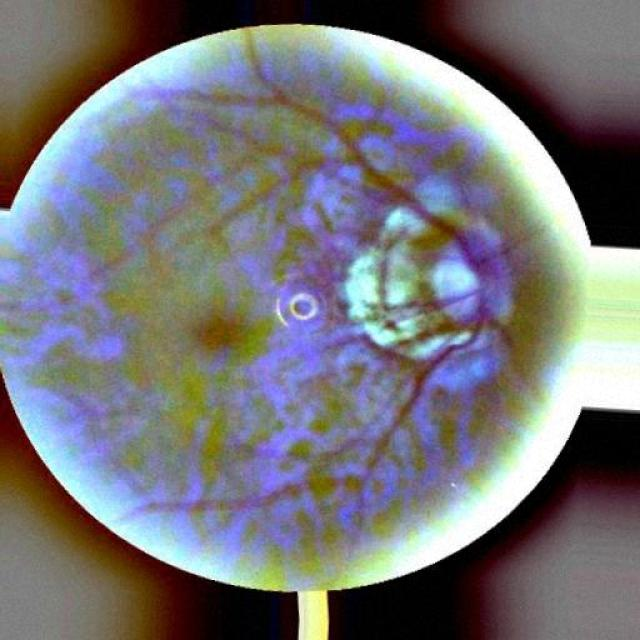Macula: (199, 314, 244, 350)
Nerves: (119, 326, 472, 531), (402, 214, 512, 335)
Optic Disk: (135, 29, 469, 262)
